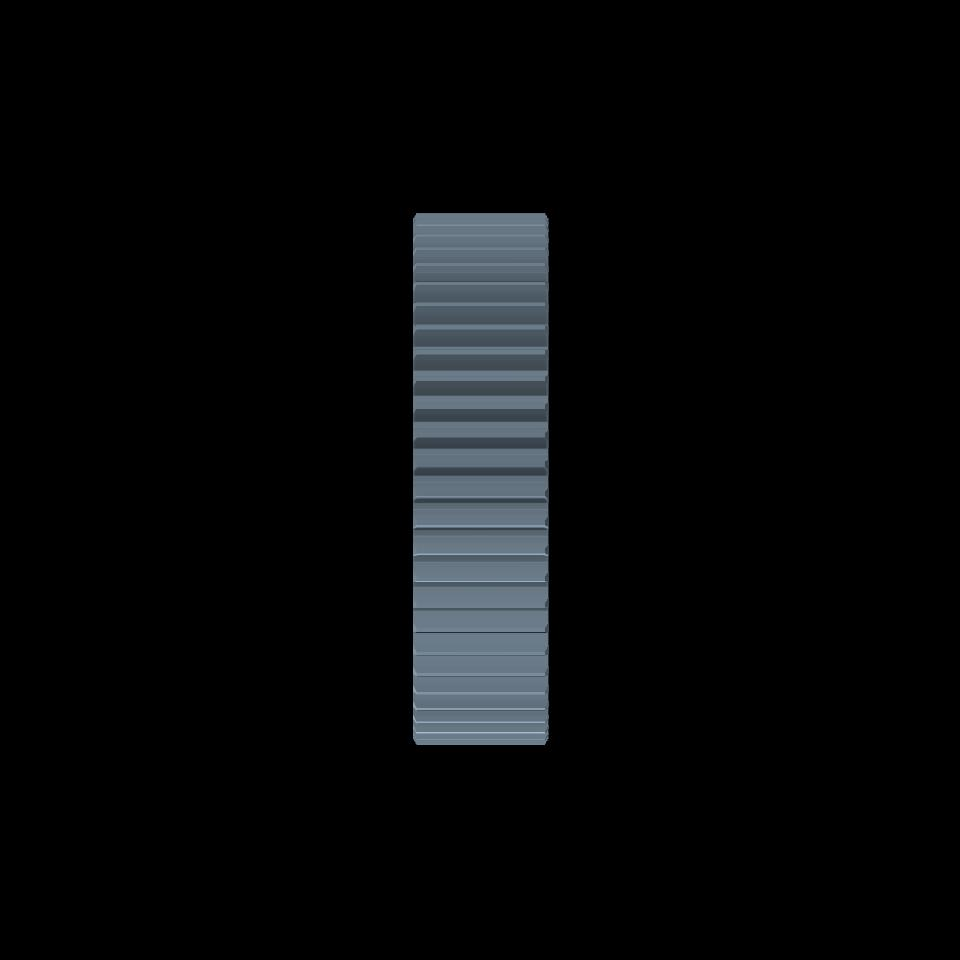Straight: (418, 212, 543, 745)
